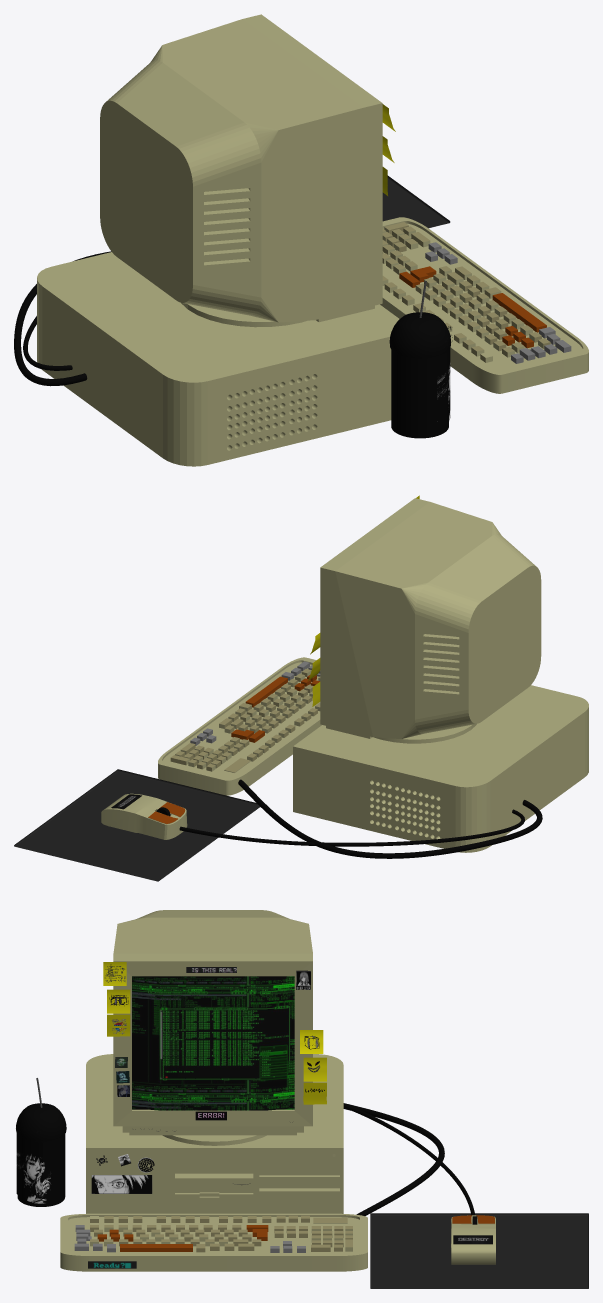
The model's file is old_hacking_pc.glb.
The picture shows the model from 3 angles, top to bottom: view 1: azimuth 30°, elevation 25°; view 2: azimuth 150°, elevation 25°; view 3: azimuth 270°, elevation 25°; orthographic projection. The views are drawn at different scales.
Visible parts, largest first — view 1: cfaa98a9bc4fe8b7f2b7c2fb18f0716a_Material.016_0, Plane.017, Circle.004, Plane; view 2: cfaa98a9bc4fe8b7f2b7c2fb18f0716a_Material.016_0, Plane.017, Plane, Cube.107; view 3: cfaa98a9bc4fe8b7f2b7c2fb18f0716a_Material.016_0, cfaa98a9bc4fe8b7f2b7c2fb18f0716a_Material.004_0, Plane.017, Plane, Circle.004, Cube.107, cfaa98a9bc4fe8b7f2b7c2fb18f0716a_Material.001_0, cfaa98a9bc4fe8b7f2b7c2fb18f0716a_a093db2d13391c2bff4b4ebde01, cfaa98a9bc4fe8b7f2b7c2fb18f0716a_Material.024_0.
Boxes of the visible parts, x1,y1,x2,y2 form: cfaa98a9bc4fe8b7f2b7c2fb18f0716a_Material.016_0: (37,14,399,466); Plane.017: (14,217,588,393); Circle.004: (389,312,450,438); Plane: (382,175,450,228); cfaa98a9bc4fe8b7f2b7c2fb18f0716a_Material.016_0: (293,498,588,852); Plane.017: (158,657,542,858); Plane: (14,769,259,881); Cube.107: (101,793,524,846); cfaa98a9bc4fe8b7f2b7c2fb18f0716a_Material.016_0: (86,910,343,1213); cfaa98a9bc4fe8b7f2b7c2fb18f0716a_Material.004_0: (132,976,294,1110); Plane.017: (60,1103,444,1271); Plane: (370,1213,588,1288); Circle.004: (16,1103,66,1206); Cube.107: (343,1103,495,1264); cfaa98a9bc4fe8b7f2b7c2fb18f0716a_Material.001_0: (103,962,326,1104); cfaa98a9bc4fe8b7f2b7c2fb18f0716a_a093db2d13391c2bff4b4ebde01: (91,1175,152,1193); cfaa98a9bc4fe8b7f2b7c2fb18f0716a_Material.024_0: (300,1030,323,1053).
Size of the model in its own units: 3.07 by 1.85 by 3.87.
Materials: 36 (21 with a texture image).
